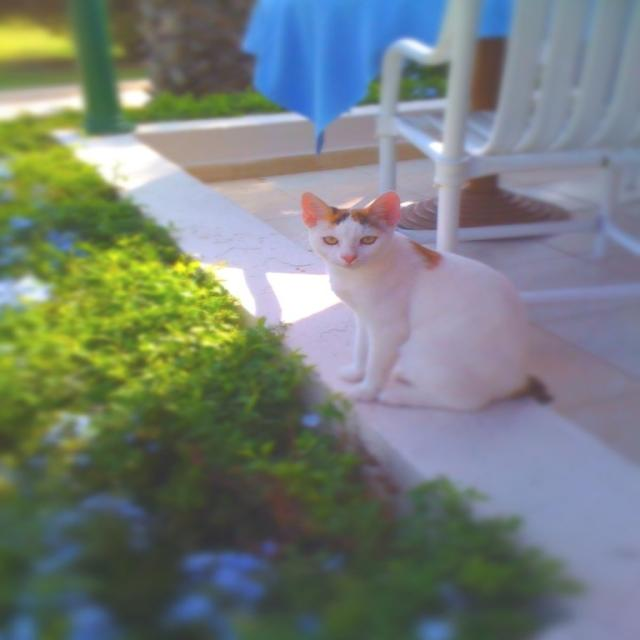Cat: (303, 194, 545, 408)
